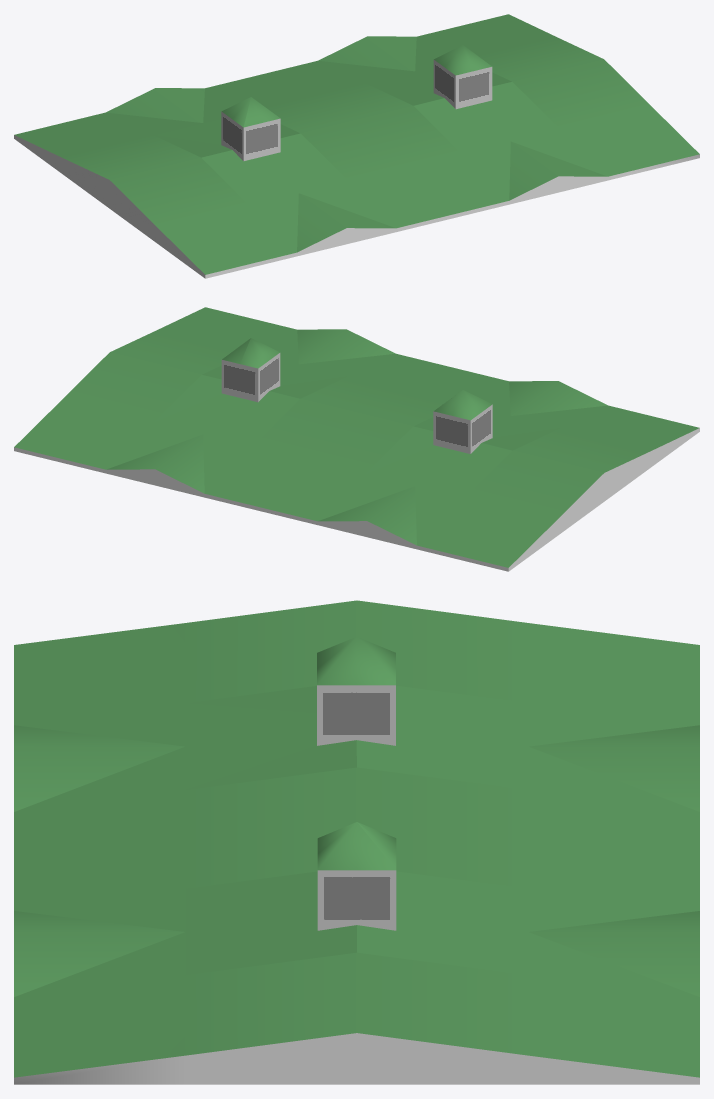
Rendered from SeatingAreaRoof.FBX.
3 renders of one model, top to bottom at view 1: azimuth 30°, elevation 25°; view 2: azimuth 150°, elevation 25°; view 3: azimuth 270°, elevation 25°, orthographic. The views are drawn at different scales.
Parts seen in each view (by area): view 1: SupDawg; view 2: SupDawg; view 3: SupDawg.
Boxes of the visible parts, x1,y1,x2,y2 form: SupDawg: (14,14,699,278); SupDawg: (14,307,699,571); SupDawg: (14,600,699,1084).
Bounding box in the file's own units: 262 × 39.29 × 176.
Materials: 1 (1 with a texture image).
